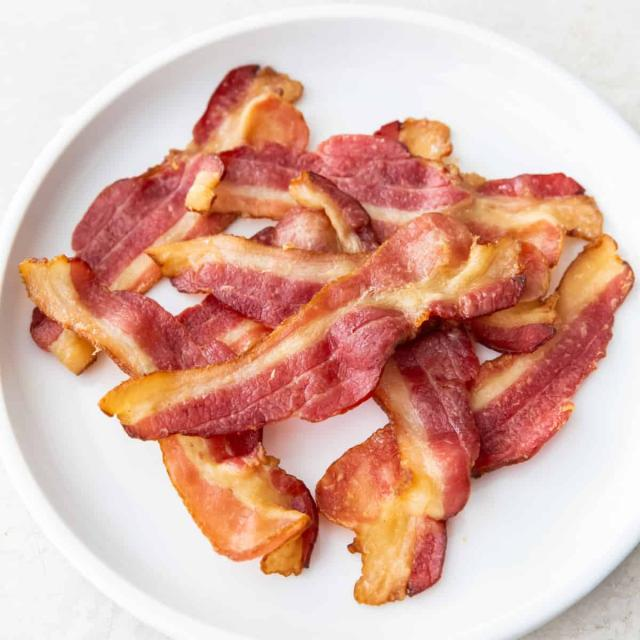bacon: (29, 50, 631, 596)
